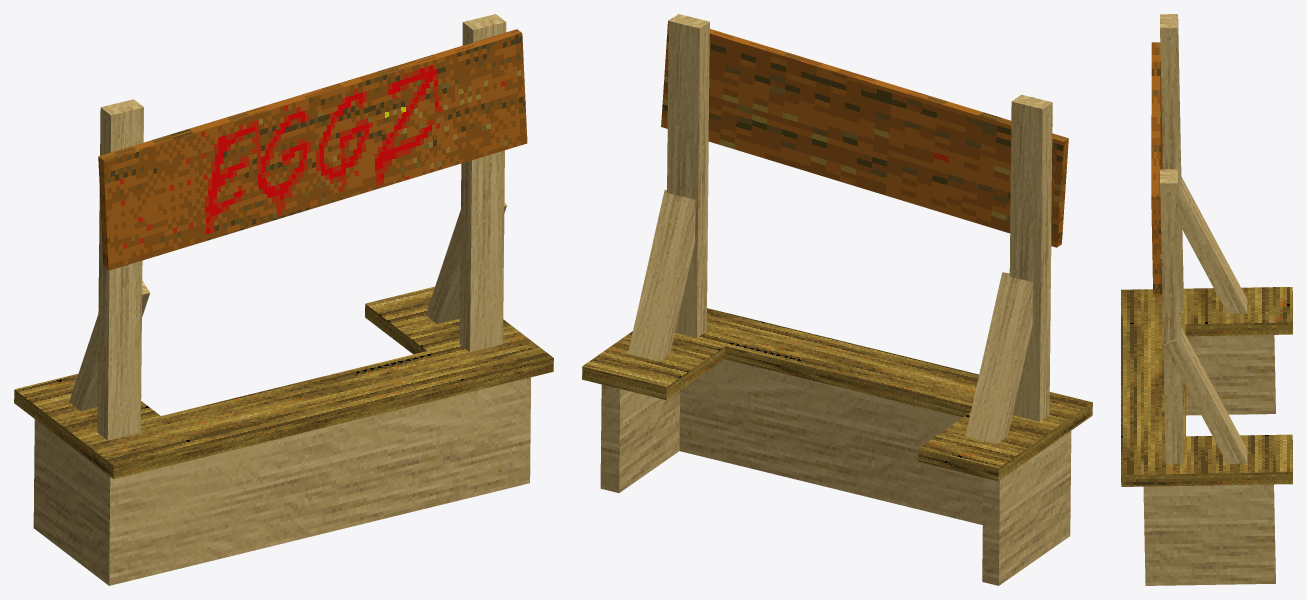
Rendered from Egg_Shop.glb.
3 renders of one model, left to right at view 1: azimuth 30°, elevation 25°; view 2: azimuth 150°, elevation 25°; view 3: azimuth 270°, elevation 25°, orthographic. The views are drawn at different scales.
Parts seen in each view (by area): view 1: Cube.005; view 2: Cube.005; view 3: Cube.005.
Boxes of the visible parts, left/top/right/bottom form: Cube.005: left=14, top=14, right=553, bottom=585; Cube.005: left=582, top=14, right=1092, bottom=585; Cube.005: left=1121, top=14, right=1292, bottom=585.
Bounding box in the file's own units: 7.59 × 7.62 × 2.98.
Materials: 1 (1 with a texture image).
